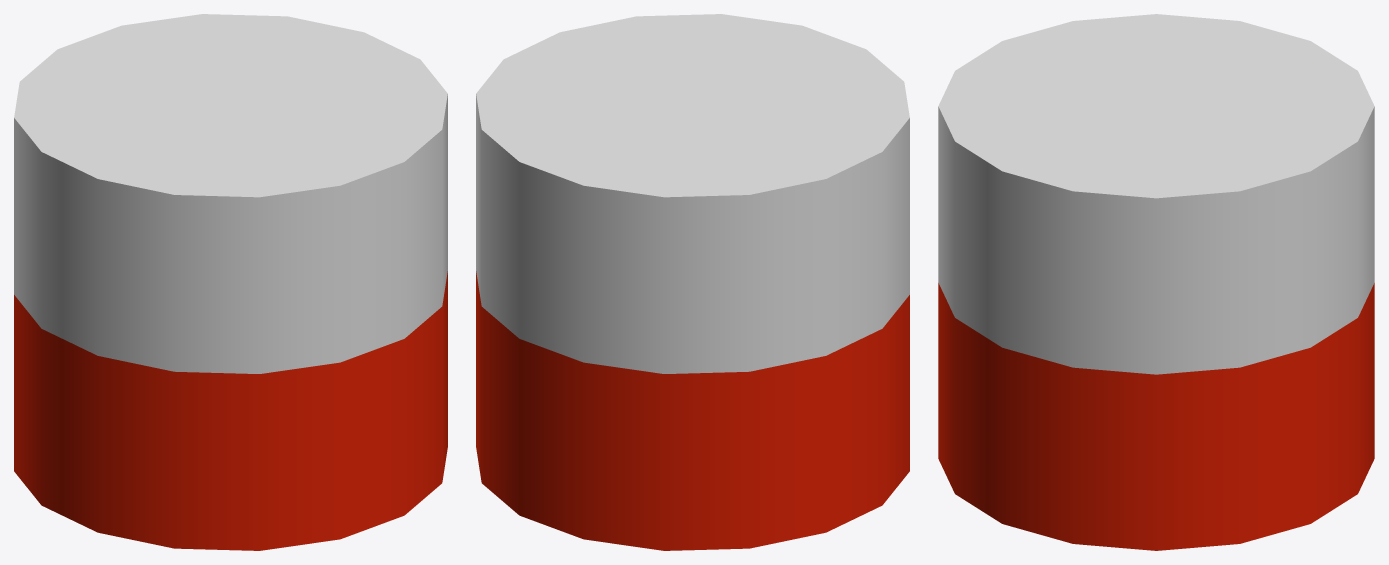
Rendered from Can.fbx.
3 views of the same model, side by side, from view 1: azimuth 30°, elevation 25°; view 2: azimuth 150°, elevation 25°; view 3: azimuth 270°, elevation 25° (orthographic).
Visible parts, largest first — view 1: Can; view 2: Can; view 3: Can.
Part boxes in pixels (bbox=[...]): Can: bbox=[14, 14, 447, 550]; Can: bbox=[476, 14, 909, 550]; Can: bbox=[938, 14, 1374, 550].
Bounding box in the file's own units: 80.21 × 71.54 × 80.21.
